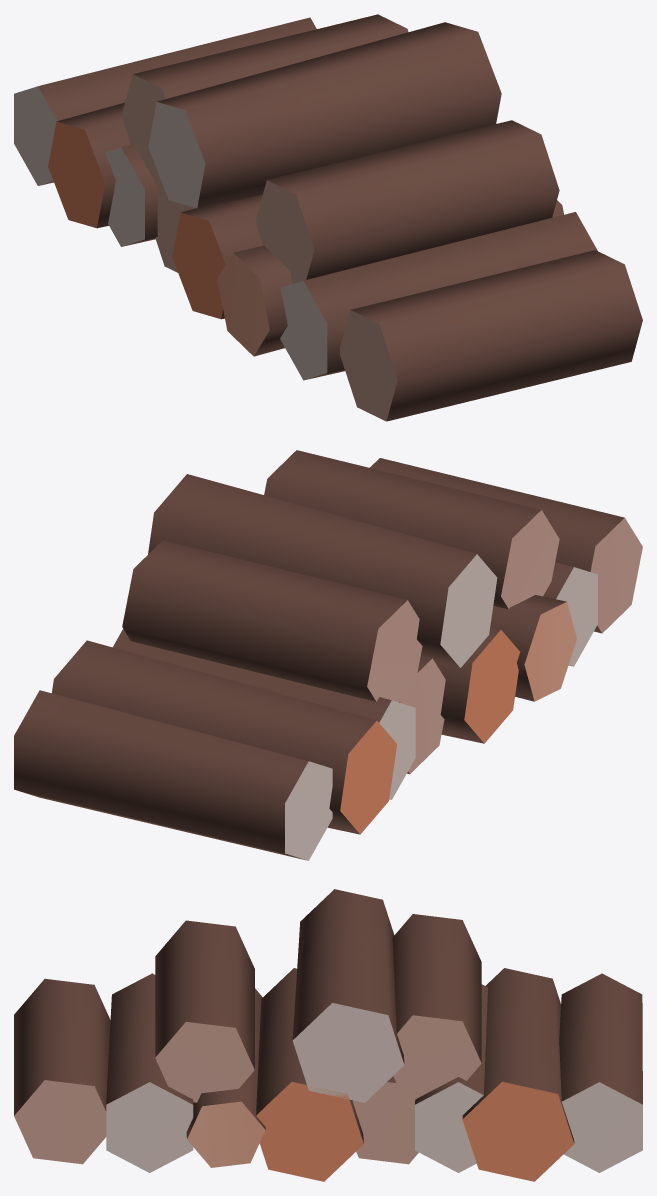
The model's file is log_003.glb.
The picture shows the model from 3 angles, top to bottom: view 1: azimuth 30°, elevation 25°; view 2: azimuth 150°, elevation 25°; view 3: azimuth 270°, elevation 25°; orthographic projection. The views are drawn at different scales.
Visible parts, largest first — view 1: log_003; view 2: log_003; view 3: log_003.
Part boxes in pixels (bbox=[...]): log_003: bbox=[14, 14, 642, 421]; log_003: bbox=[14, 450, 642, 860]; log_003: bbox=[14, 889, 642, 1181].
Size of the model in its own units: 0.4811 by 0.3171 by 1.01.
1 material, 1 textured.
